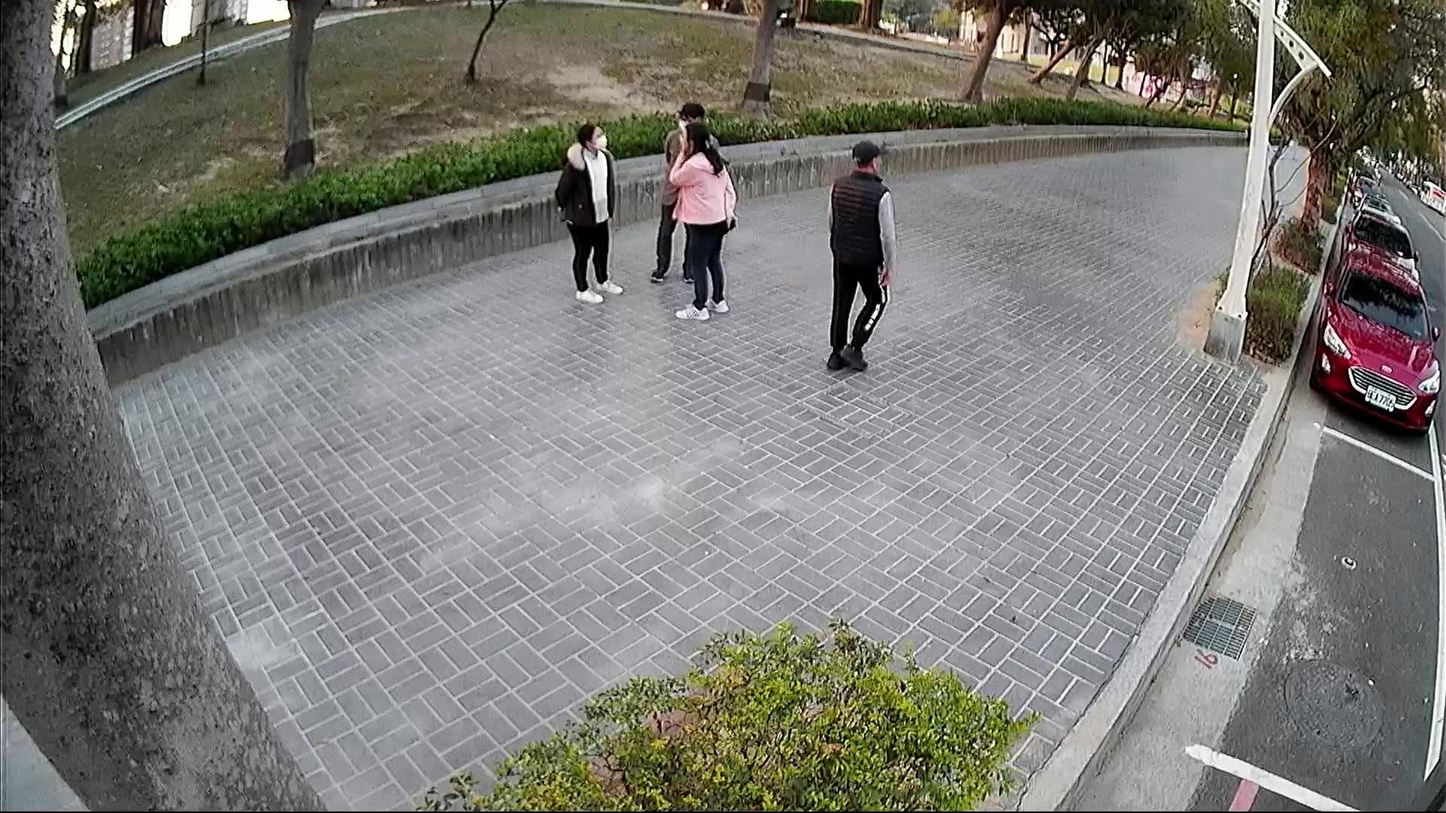person: (815, 132, 899, 379), (662, 115, 739, 321), (550, 116, 629, 307), (646, 96, 706, 285)
